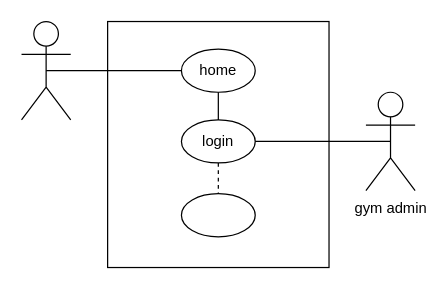
Image size: 448x289. Some labels were removed from this diagram. The shapes that lost their labels are listed below. From the top down, each one's centre as x and y in pixels, then its label:
the point at 45,70: User
the point at 217,214: register
